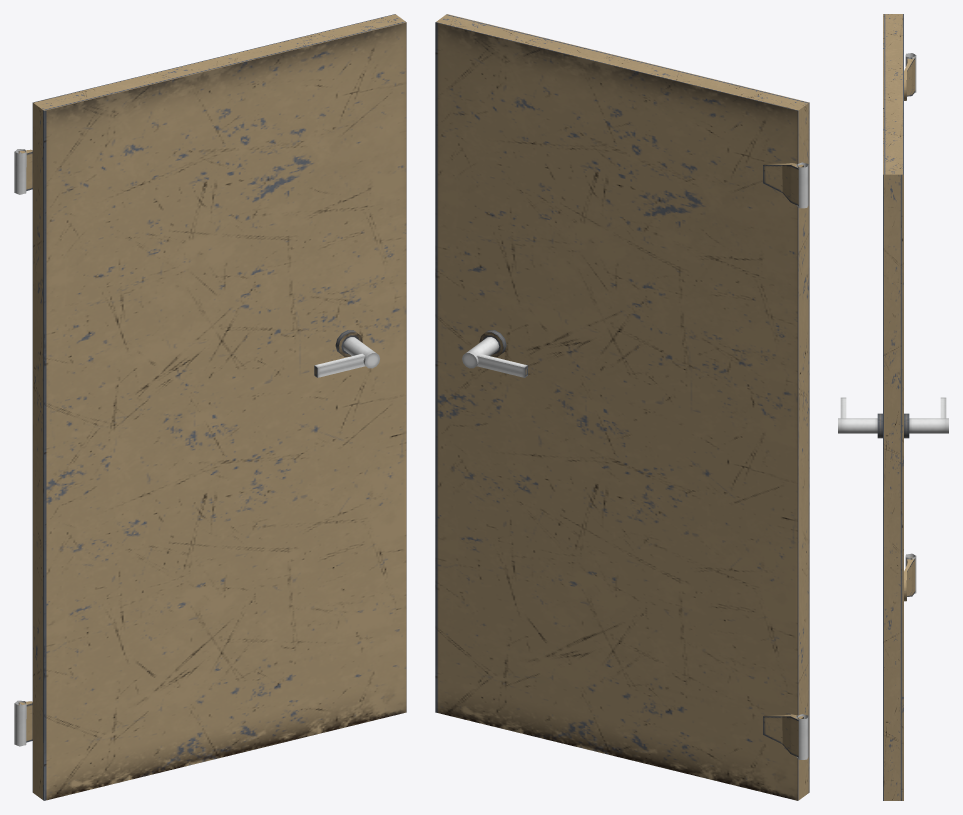
File: CnSideDoorA1.fbx
3 views of the same model, side by side, from view 1: azimuth 30°, elevation 25°; view 2: azimuth 150°, elevation 25°; view 3: azimuth 270°, elevation 25° (orthographic). The views are drawn at different scales.
Parts seen in each view (by area): view 1: CnSideDoorWngA1, CnSideDoorDetA1; view 2: CnSideDoorWngA1, CnSideDoorDetA1; view 3: CnSideDoorWngA1, CnSideDoorDetA1.
Boxes of the visible parts, box(x1,y1,x2,y2) form: CnSideDoorWngA1: box(32, 14, 406, 800); CnSideDoorDetA1: box(14, 149, 379, 746); CnSideDoorWngA1: box(435, 14, 809, 800); CnSideDoorDetA1: box(462, 162, 808, 759); CnSideDoorWngA1: box(883, 14, 903, 800); CnSideDoorDetA1: box(838, 53, 948, 601).
Size of the model in its own units: 114 by 200 by 32.07.
